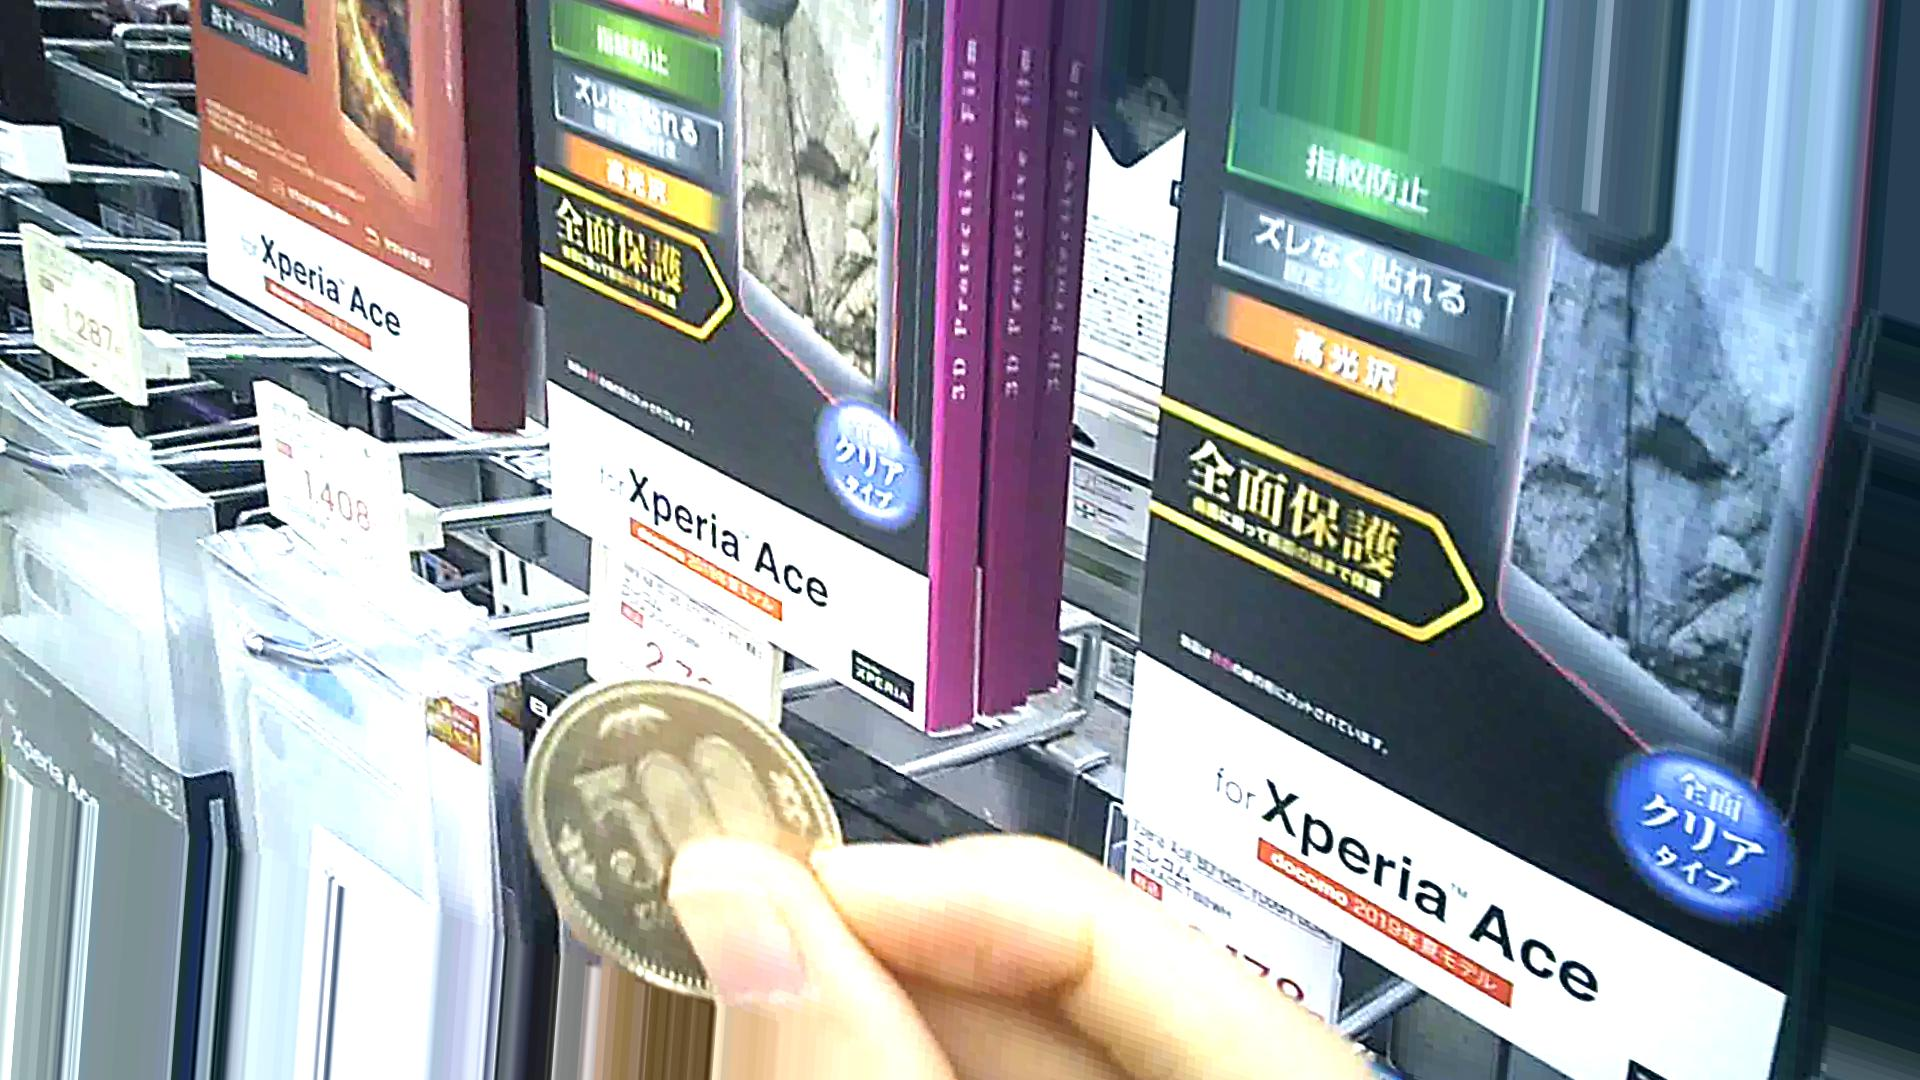500 Yen: (514, 653, 865, 1006)
